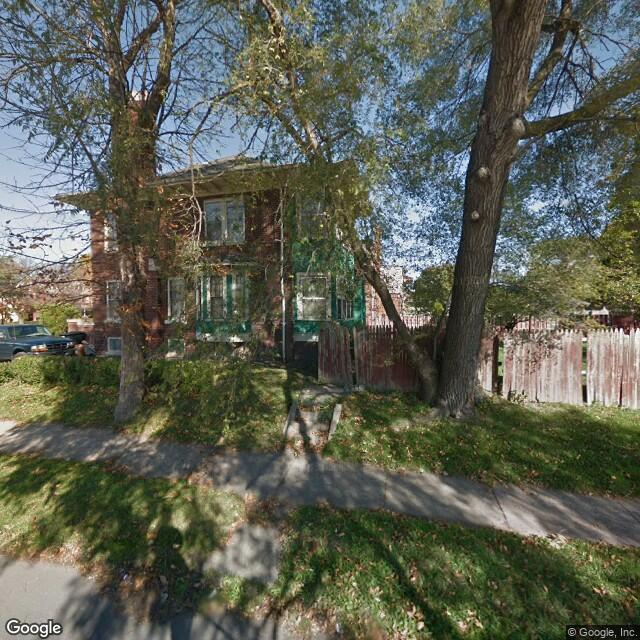litter: (327, 621, 344, 633), (209, 587, 219, 598), (119, 572, 128, 584), (162, 594, 168, 600)
